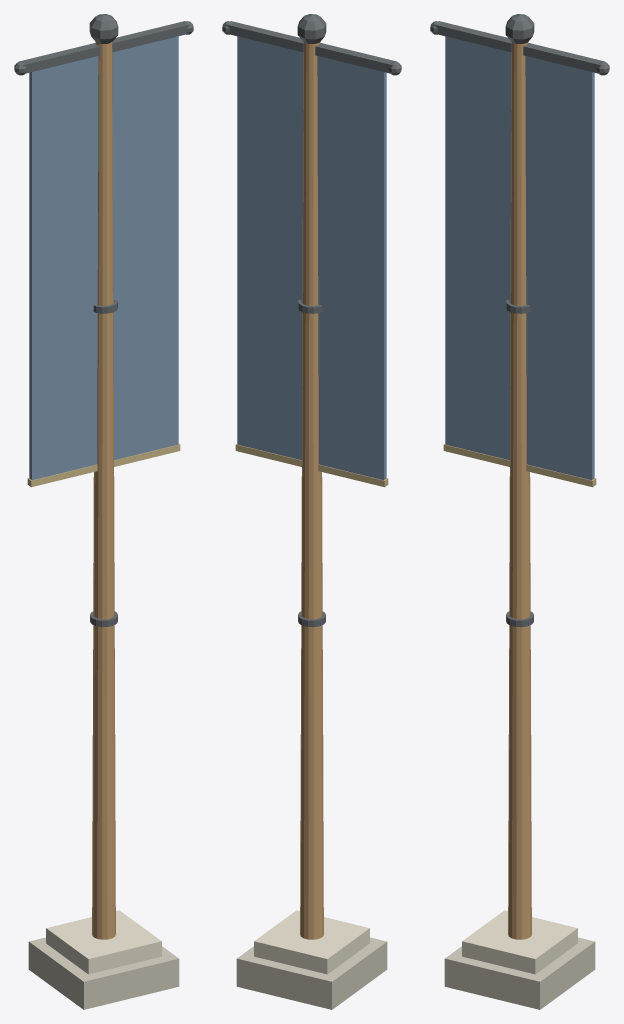
Rendered from banner-pole-tall.glb.
The picture shows the model from 3 angles, left to right: view 1: azimuth 30°, elevation 25°; view 2: azimuth 150°, elevation 25°; view 3: azimuth 330°, elevation 25°; orthographic projection.
Visible parts, largest first — view 1: banner-pole-tall; view 2: banner-pole-tall; view 3: banner-pole-tall.
Part boxes in pixels (left/top/right/bottom): banner-pole-tall: left=14, top=14, right=193, bottom=1009; banner-pole-tall: left=222, top=14, right=401, bottom=1009; banner-pole-tall: left=430, top=14, right=609, bottom=1009.
Size of the model in its own units: 1.46 by 7.53 by 0.78.
